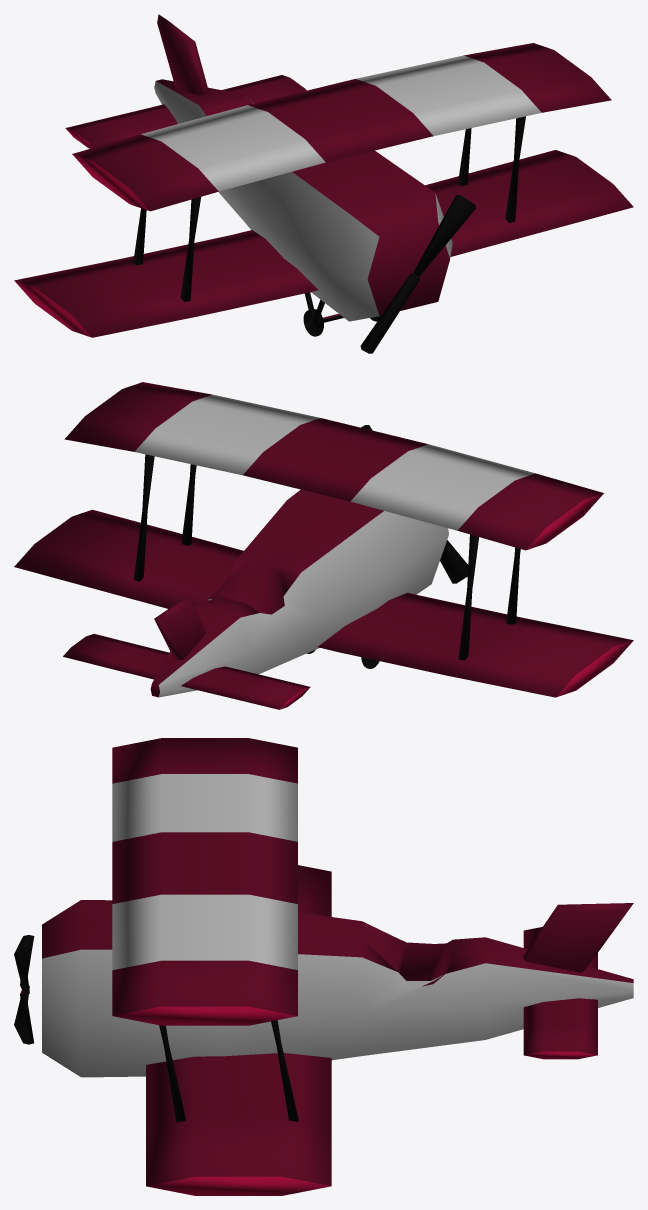
File: AirplaneModelV9.fbx
3 renders of one model, top to bottom at view 1: azimuth 30°, elevation 25°; view 2: azimuth 150°, elevation 25°; view 3: azimuth 270°, elevation 25°, orthographic. The views are drawn at different scales.
Parts seen in each view (by area): view 1: Cube, Cube.004, Cube.003; view 2: Cube, Cube.003, Cube.004; view 3: Cube, Cube.003, Cube.004.
Boxes of the visible parts, left/top/right/bottom form: Cube: left=14, top=14, right=633, bottom=353; Cube.004: left=141, top=55, right=541, bottom=191; Cube.003: left=154, top=81, right=452, bottom=321; Cube: left=14, top=382, right=633, bottom=709; Cube.003: left=159, top=511, right=448, bottom=697; Cube.004: left=134, top=394, right=534, bottom=530; Cube: left=14, top=738, right=633, bottom=1195; Cube.003: left=42, top=949, right=633, bottom=1077; Cube.004: left=112, top=774, right=297, bottom=970.
Size of the model in its own units: 1002 by 374 by 839.
Materials: 1 (1 with a texture image).
